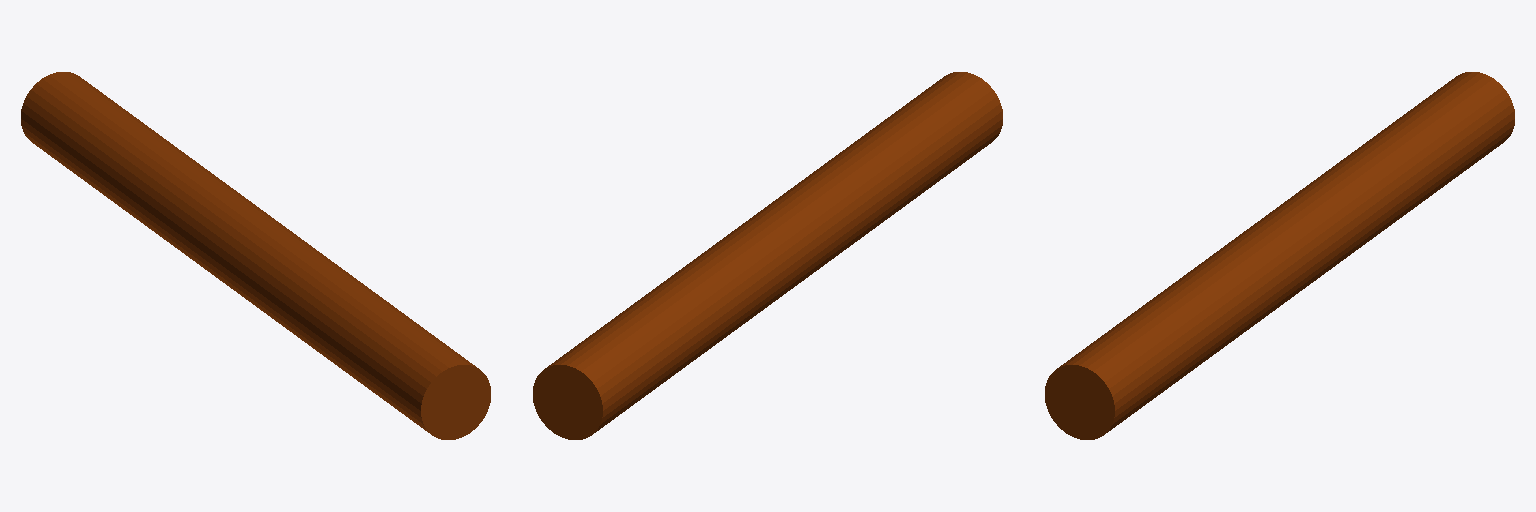
URDF robot description (cylinder):
<?xml version="1.0" ?>
<!-- =================================================================================== -->
<!-- |    This document was autogenerated by xacro from cylinder.xacro                 | -->
<!-- |    EDITING THIS FILE BY HAND IS NOT RECOMMENDED                                 | -->
<!-- =================================================================================== -->
<robot name="cylinder">
  <link name="world"/>
  <link name="base">
    <visual>
      <origin rpy="1.57079633 0 0" xyz="0 0 0"/>
      <geometry>
        <cylinder length="7.07106781185" radius="0.36"/>
      </geometry>
      <material name="cylinder_material">
        <color rgba="0.545 0.271 0.075 1.0"/>
        <texture filename="../textures/tree_bark.jpg"/>
      </material>
    </visual>
    <collision>
      <origin rpy="1.57079633 0 0" xyz="0 0 0"/>
      <geometry>
        <cylinder length="7.07106781185" radius="0.36"/>
      </geometry>
    </collision>
    <inertial>
      <origin rpy="0 0 0" xyz="0 0 0"/>
      <mass value="1"/>
      <inertia ixx="4.199066666648429" ixy="0.0" ixz="0.0" iyy="4.199066666648429" iyz="0.0" izz="24.999999999890573"/>
    </inertial>
  </link>
  <joint name="base_joint" type="fixed">
    <parent link="world"/>
    <child link="base"/>
    <origin rpy="0 0 0" xyz="0.0 0.0 0.0"/>
  </joint>
</robot>

--- What the picture shows (computed from the rendered views, not written in the file) ---
The picture shows the robot from 3 angles, left to right: view 1: azimuth 30°, elevation 25°; view 2: azimuth 150°, elevation 25°; view 3: azimuth 330°, elevation 25°; orthographic projection.
Robot: cylinder — 2 links, 1 joints (1 fixed); root link world; default pose: all joints at 0.
Visible links, largest first — view 1: base; view 2: base; view 3: base.
Link boxes in pixels (x1,y1,x2,y2): base: [21, 72, 490, 439]; base: [533, 72, 1002, 439]; base: [1045, 72, 1514, 439].
Bounding box of the posed robot: 0.72 × 7.07 × 0.72 m (x, y, z).
Geometry: primitives only (box / cylinder / sphere), no mesh files.
